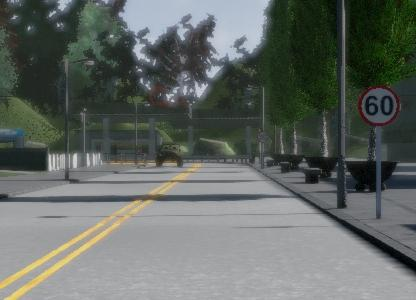Speed_60: (355, 83, 402, 127)
